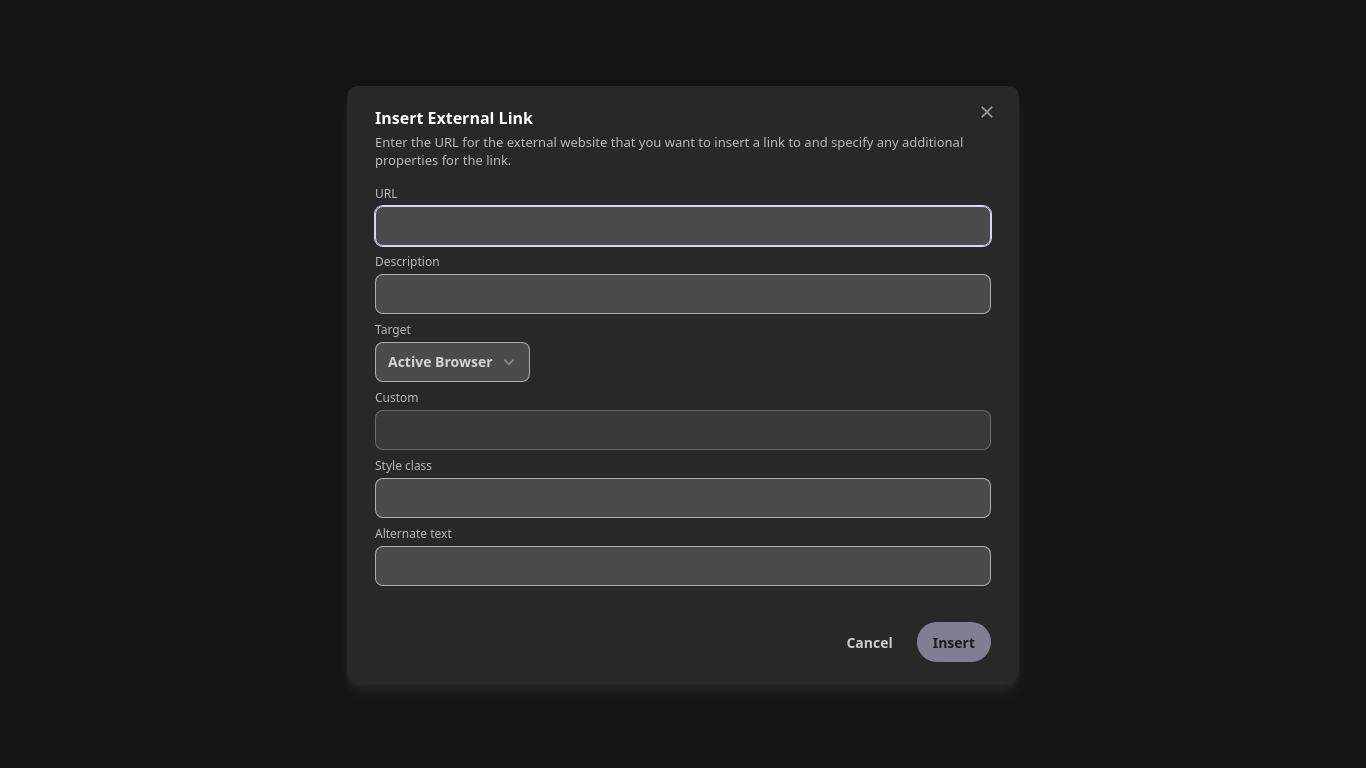
Test: InsertExternalLinkDialog › enables Insert once URL is non-empty
The image size is (1366, 768).
Type "https://example.com" into the field labelled "URL" at (683, 226), box [375,206,991,246]
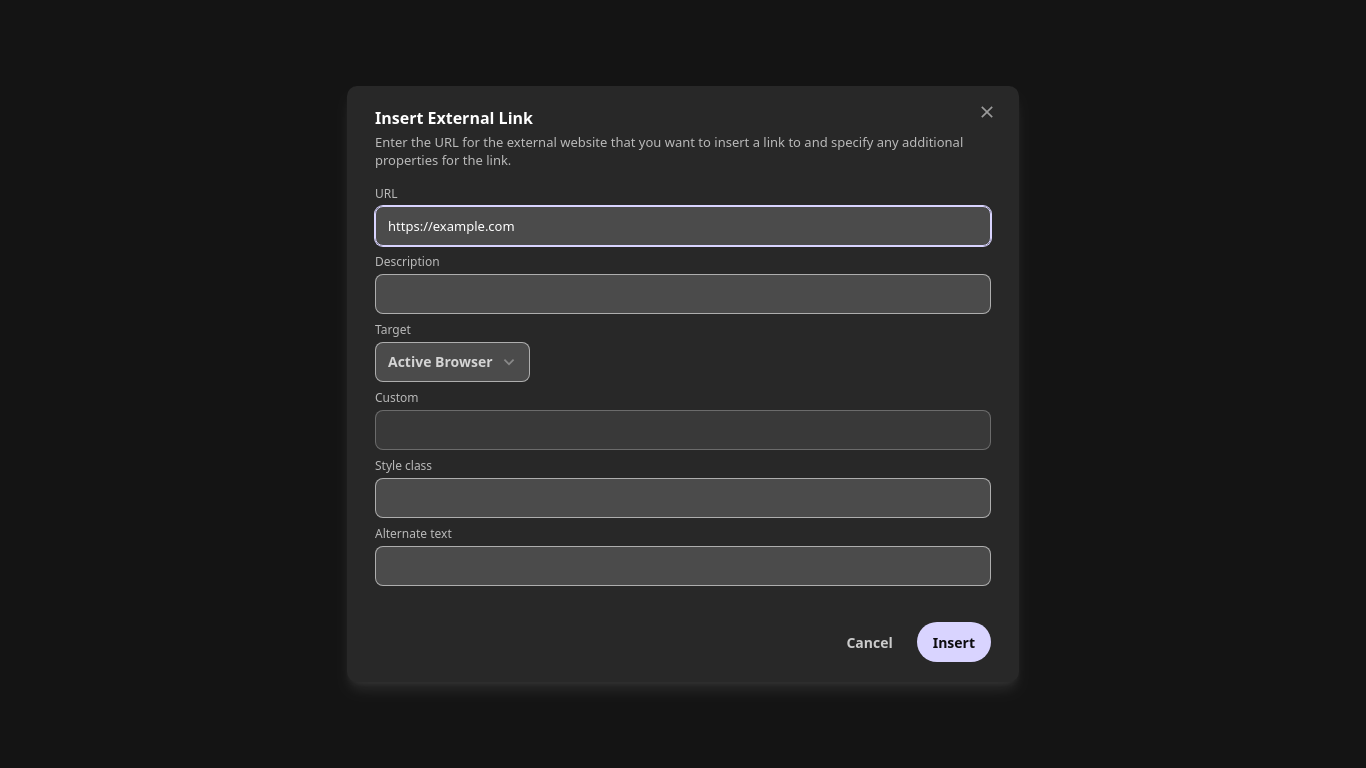
expect the button "Insert" is enabled: met, box [917,622,991,662]
